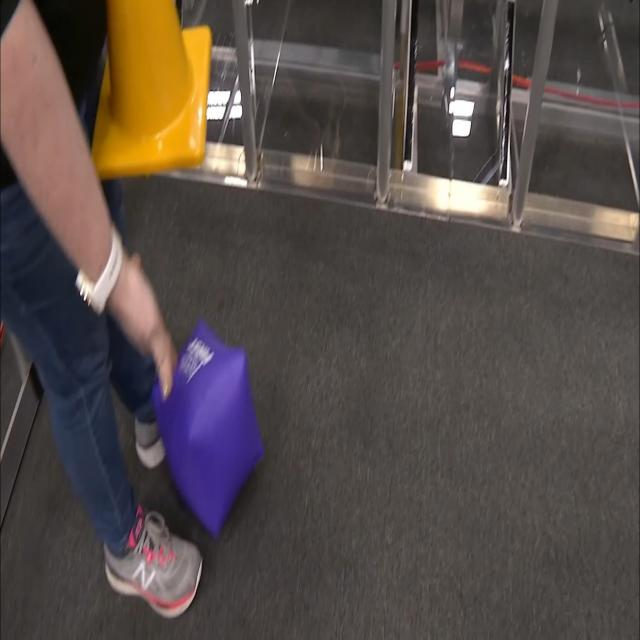frc_cone: (79, 0, 209, 181)
frc_cube: (144, 319, 256, 546)
